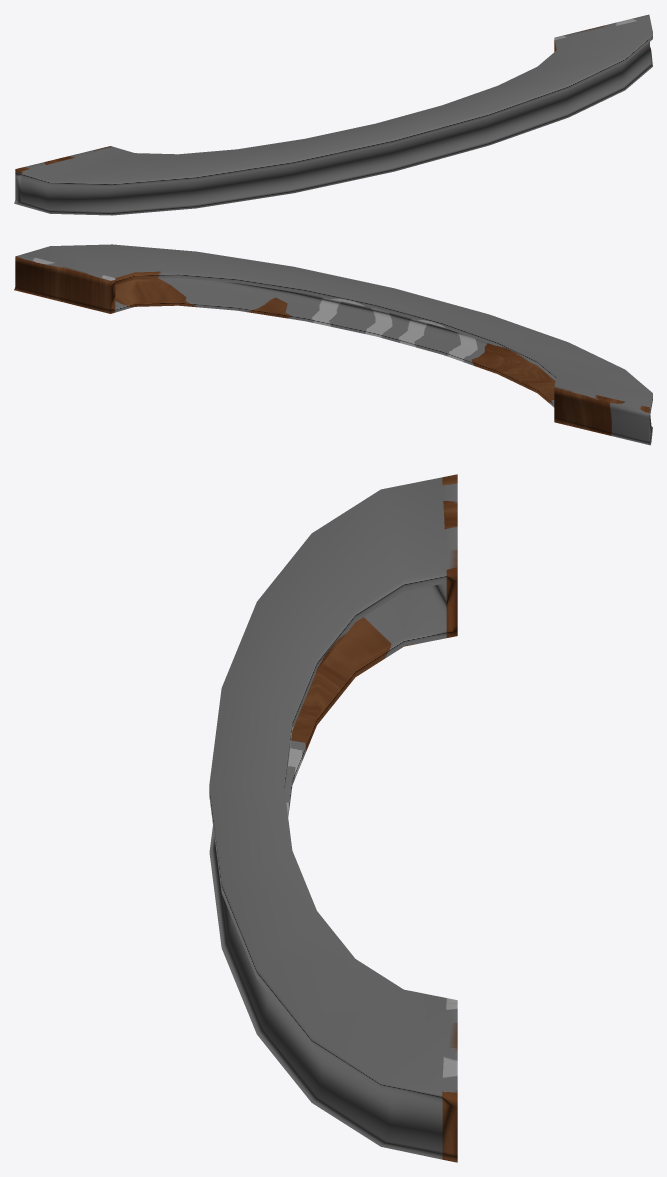
Rendered from Balcão.fbx.
The picture shows the model from 3 angles, top to bottom: view 1: azimuth 30°, elevation 25°; view 2: azimuth 150°, elevation 25°; view 3: azimuth 270°, elevation 25°; orthographic projection. The views are drawn at different scales.
Visible parts, largest first — view 1: pCylinder48; view 2: pCylinder48; view 3: pCylinder48.
Boxes of the visible parts, box(x1,y1,x2,y2) form: pCylinder48: box(14, 14, 652, 215); pCylinder48: box(14, 244, 652, 445); pCylinder48: box(209, 474, 457, 1162).
Bounding box in the file's own units: 605 × 31.3 × 102.
